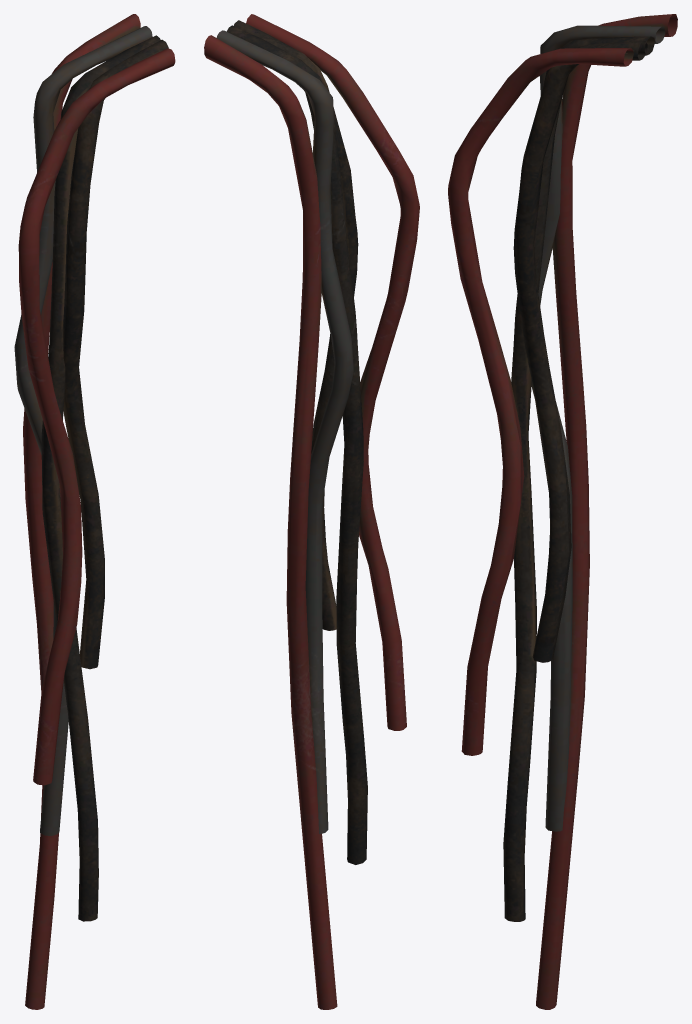
Rendered from danglewires2_reference_006.fbx.
3 views of the same model, side by side, from view 1: azimuth 30°, elevation 25°; view 2: azimuth 150°, elevation 25°; view 3: azimuth 330°, elevation 25° (orthographic). The views are drawn at different scales.
Visible parts, largest first — view 1: danglewires2_reference.006; view 2: danglewires2_reference.006; view 3: danglewires2_reference.006.
Part boxes in pixels (box(x1,y1,x2,y2)): danglewires2_reference.006: box(14, 14, 175, 1009); danglewires2_reference.006: box(204, 14, 419, 1009); danglewires2_reference.006: box(448, 14, 677, 1009).
Size of the model in its own units: 29.33 by 164 by 20.72.
